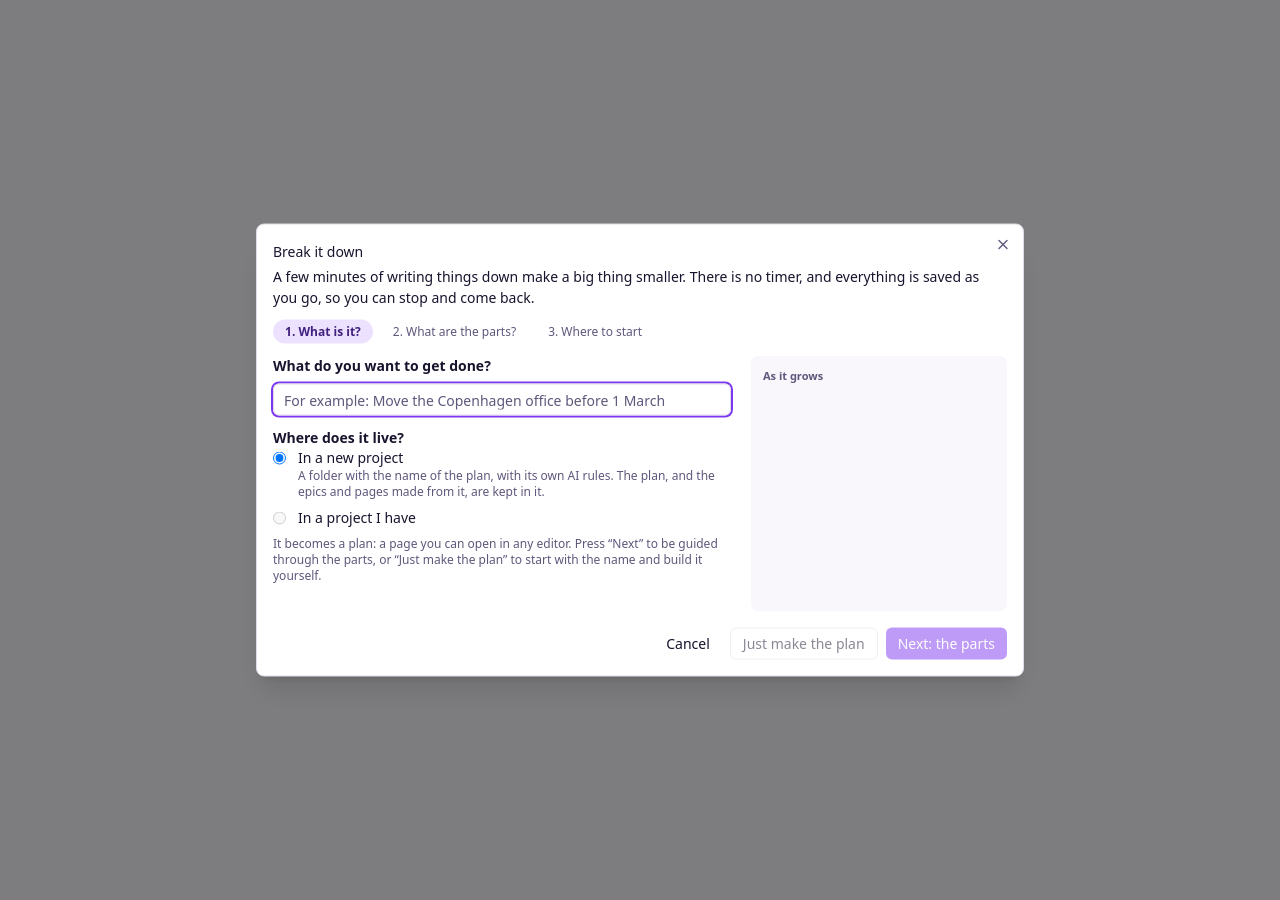
Scenario: GuidedDialog › makes a plan from a name, takes parts and smaller parts, and makes the smallest a task
Later steps or results of the test are not shown.
# What is it?
Type "Move the office" into the field at [502, 400], box [273, 384, 731, 416]
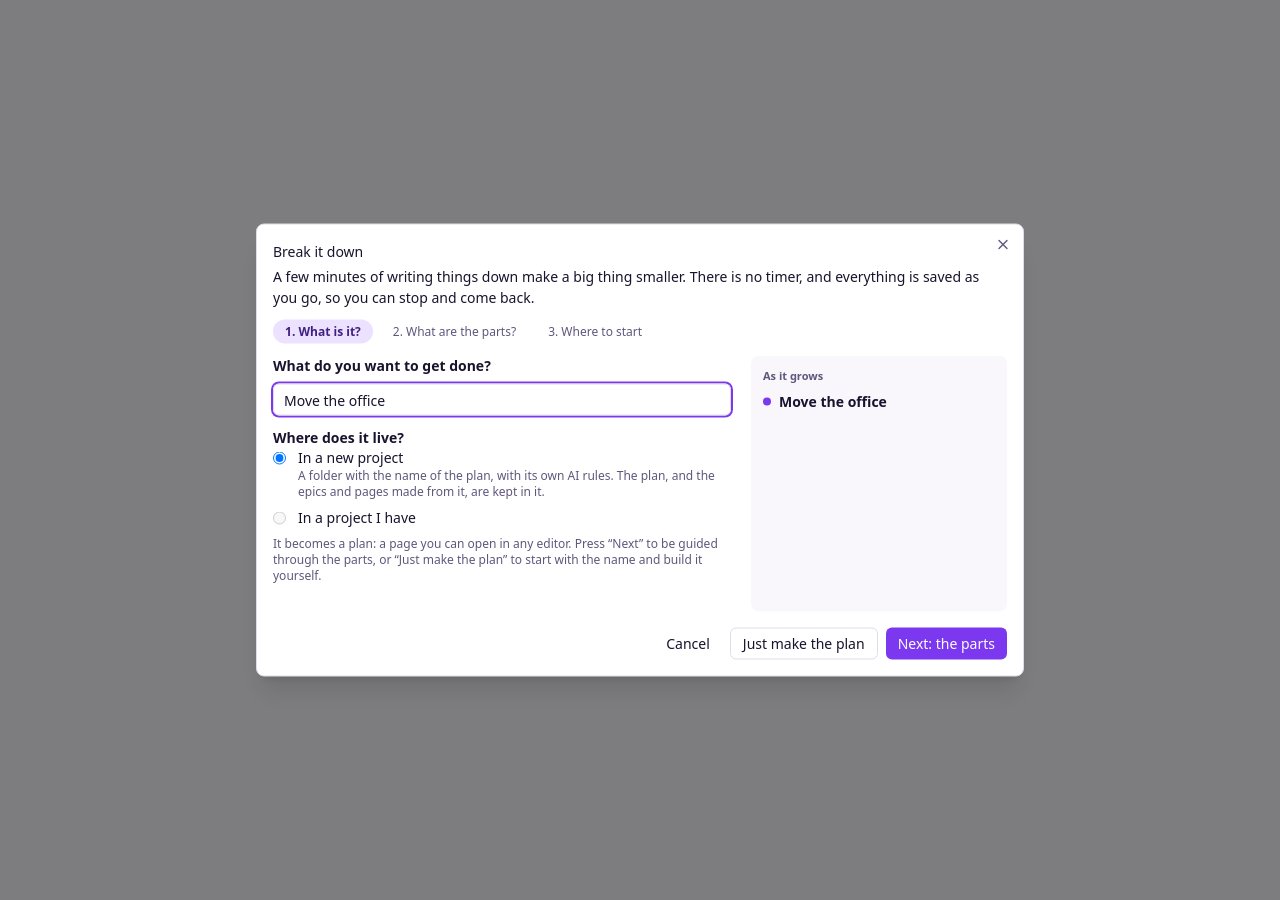
Click the button "Next: the parts" at [946, 644], box [886, 628, 1007, 660]
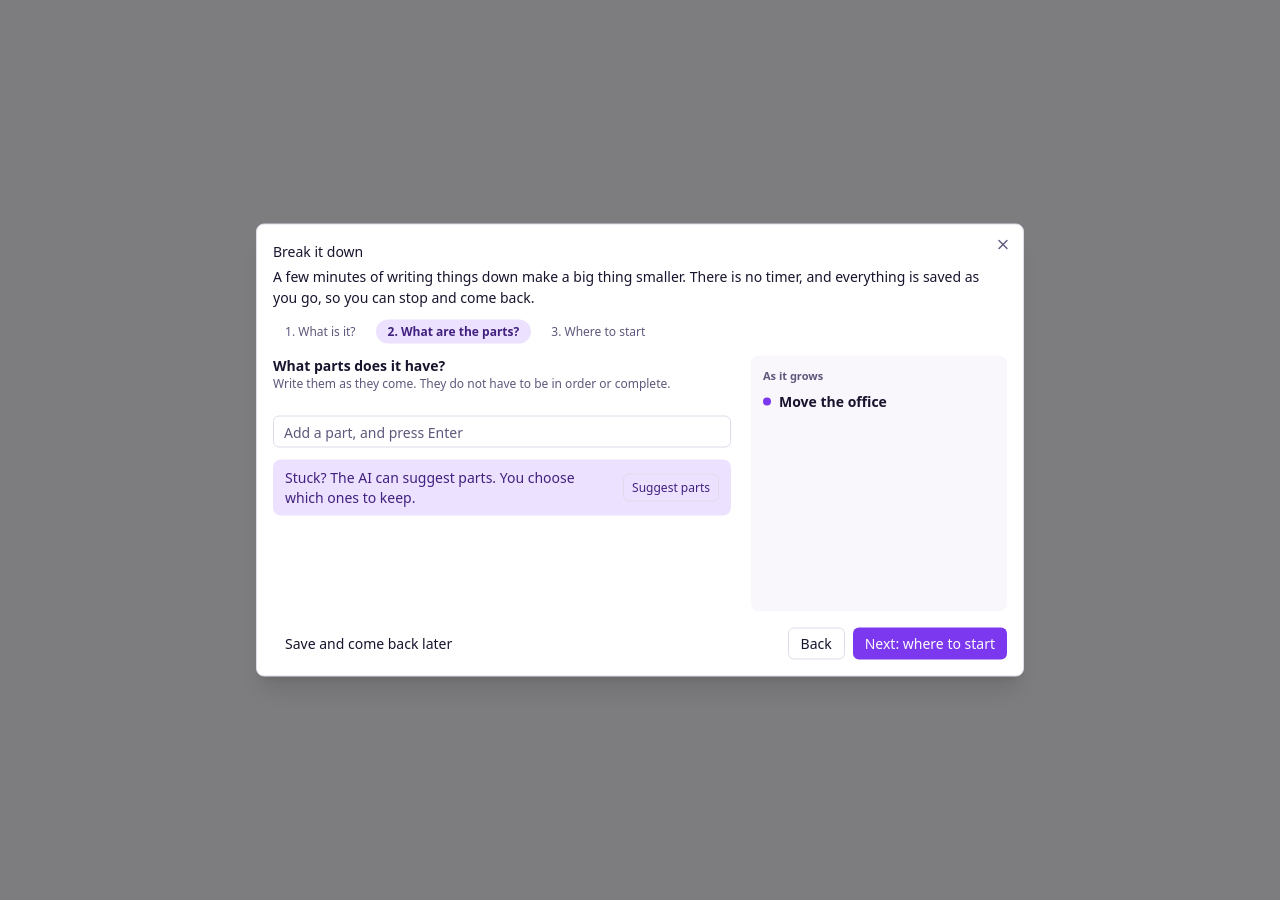
# The parts, and a part broken into a smaller one.
Type "Find a place" into the field labelled "Add a part" at [502, 432], box [273, 416, 731, 448]
Then press Enter
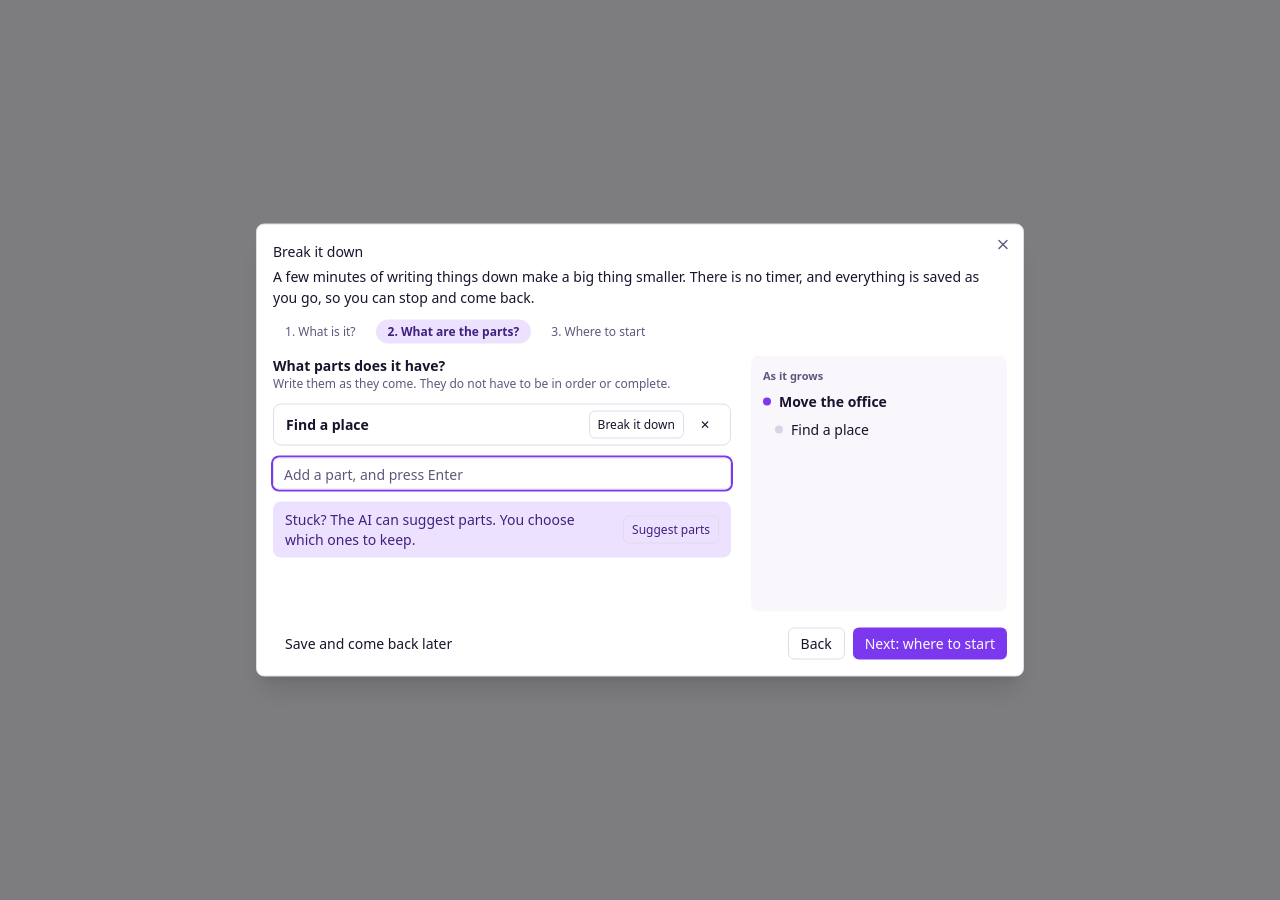
Click the button "Break it down" at [636, 424], box [589, 410, 684, 438]
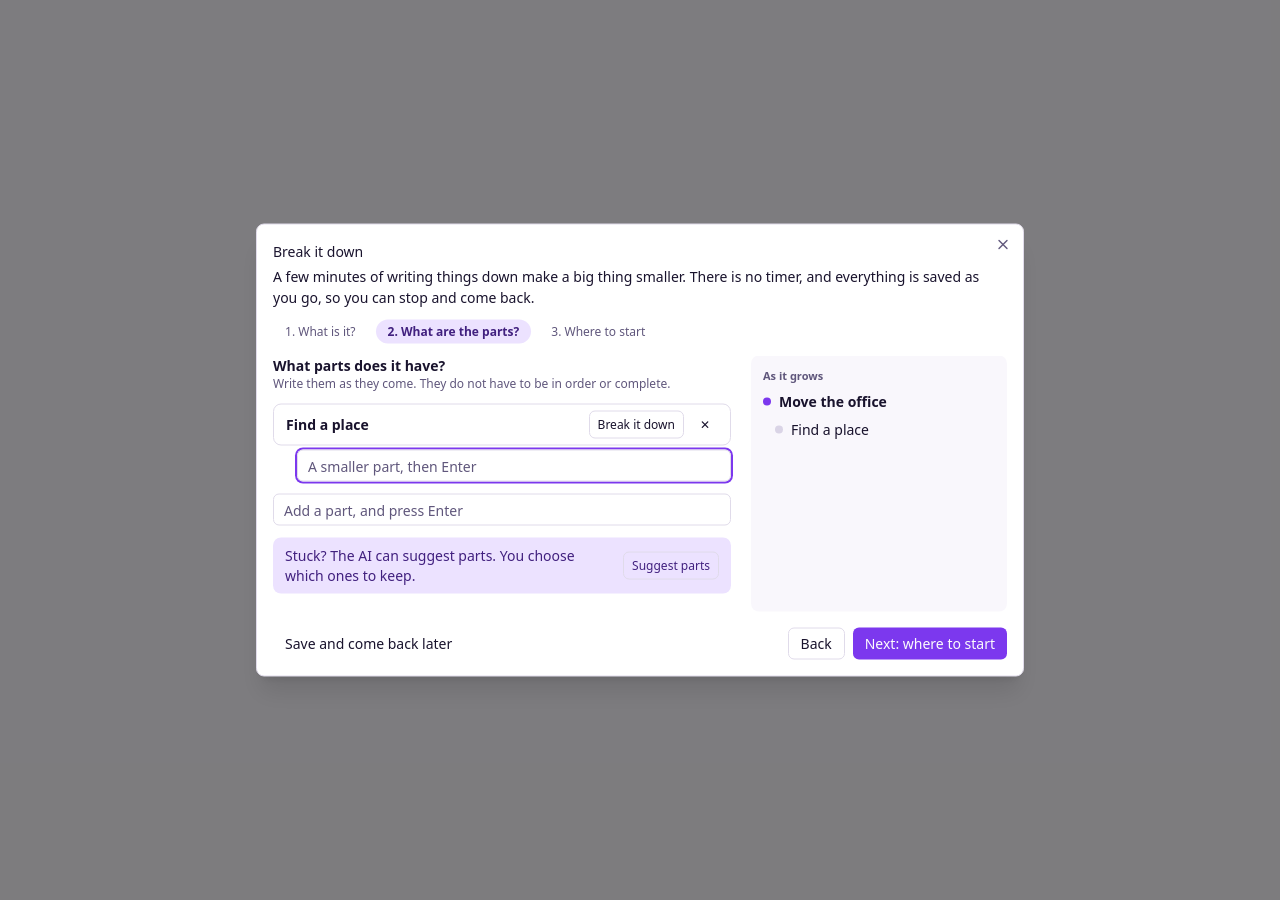
Type "Visit the offices" into the field named "A smaller part of Find a place" at [514, 466], box [297, 450, 731, 482]
Then press Enter
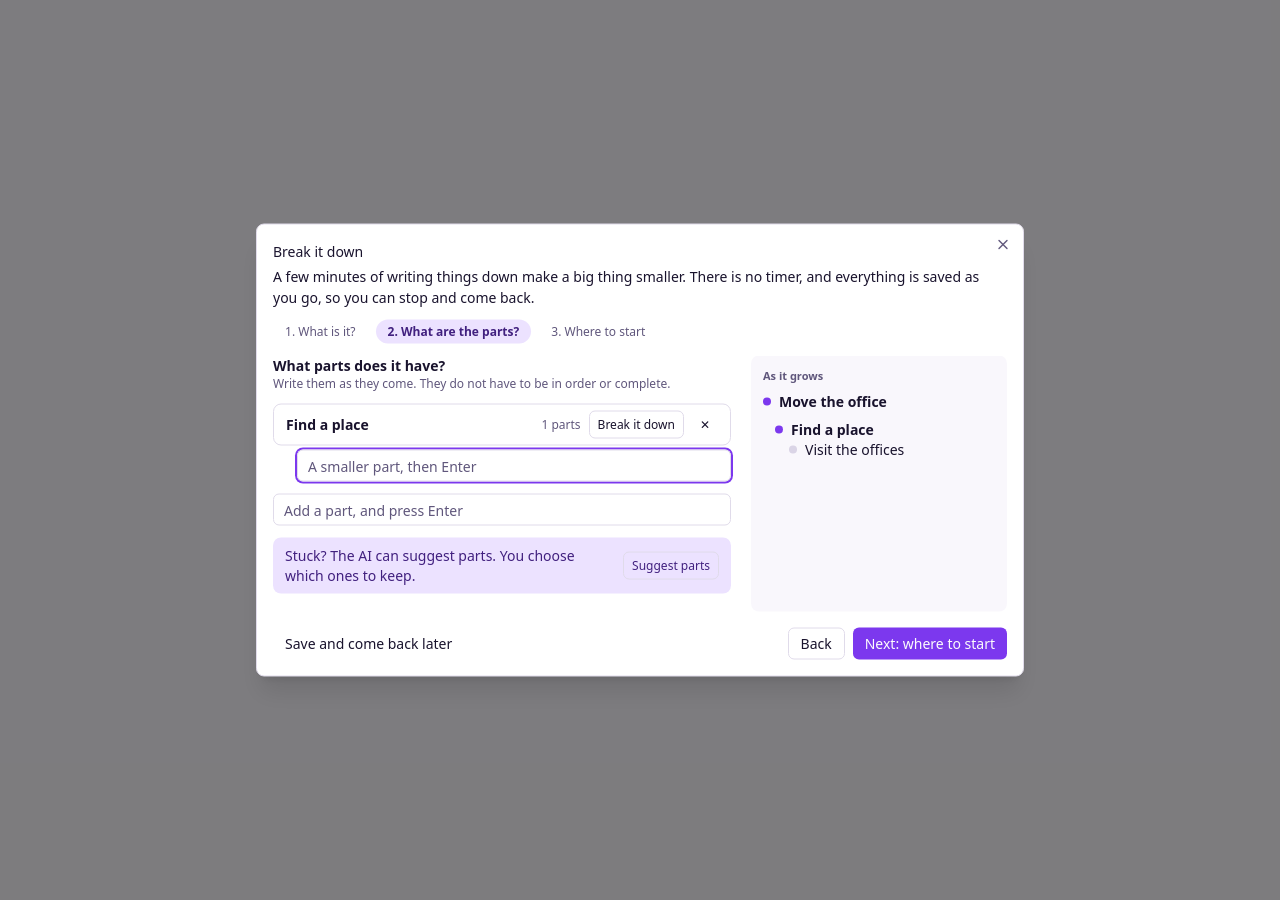
# Where to start: only the smallest parts are offered.
Click the button "Next: where to start" at [930, 644], box [853, 628, 1007, 660]
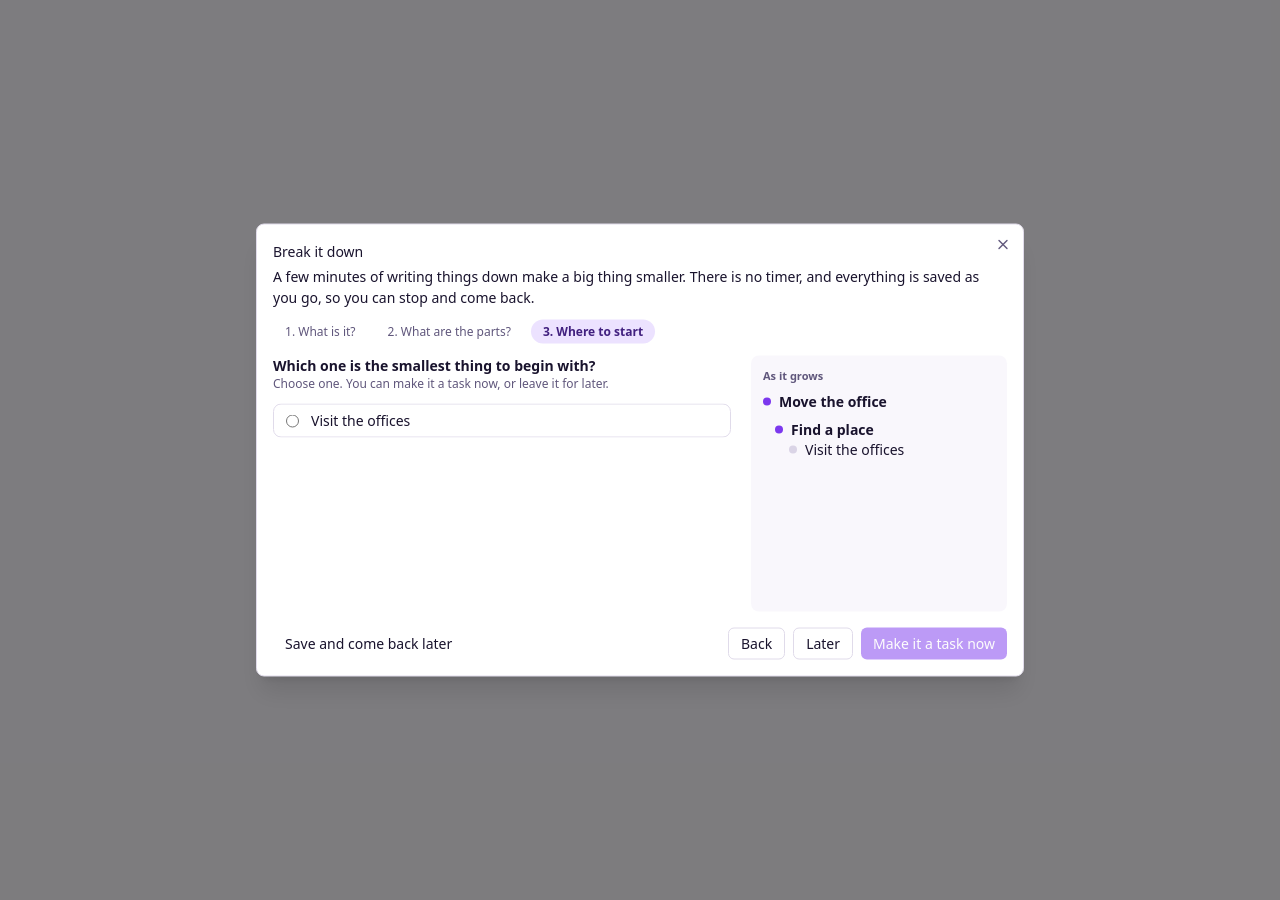
Now the number of radio buttons is 1, box [286, 414, 299, 428]
